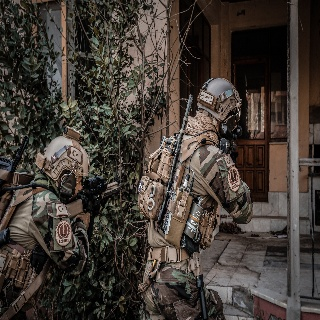rifle: (53, 175, 121, 246)
